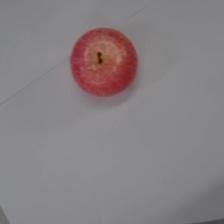red: (66, 23, 143, 103)
